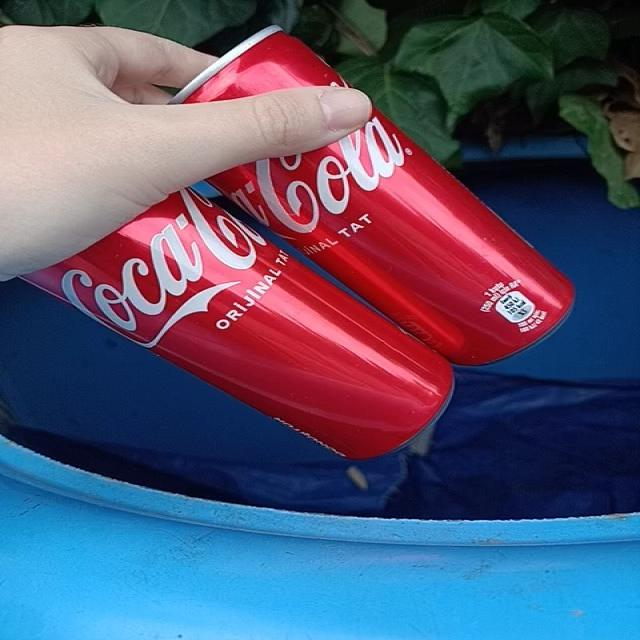bin: (3, 139, 640, 640)
metal: (23, 190, 452, 460), (212, 110, 575, 366), (173, 26, 344, 102)
